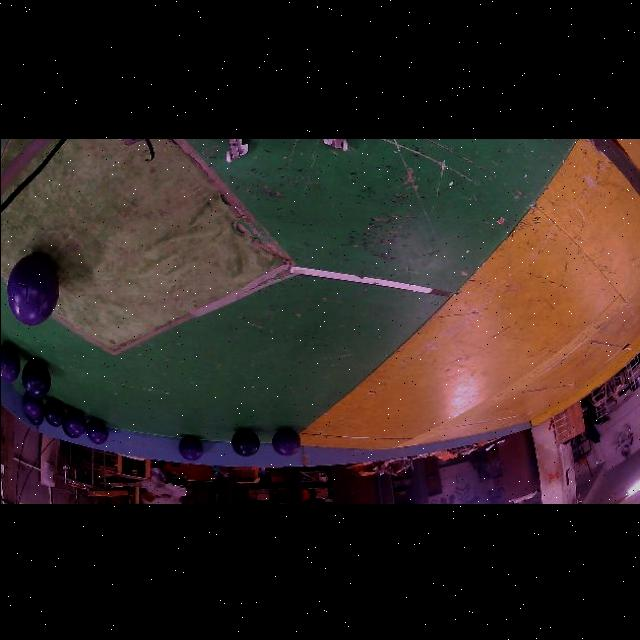B: (21, 359, 49, 397), (231, 429, 259, 456), (43, 399, 65, 427), (27, 413, 43, 425)
P: (6, 253, 58, 325), (271, 428, 299, 456), (0, 343, 20, 382), (63, 409, 86, 437), (178, 436, 203, 461), (85, 419, 108, 444), (21, 392, 43, 418)
